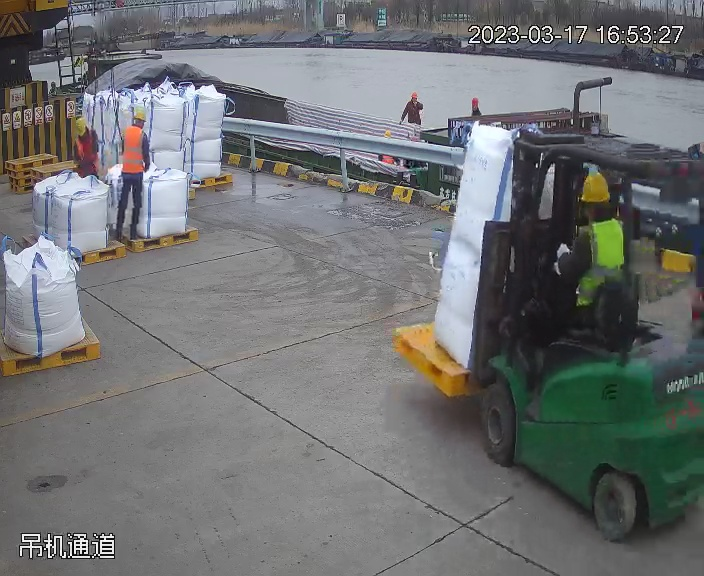head: (568, 170, 628, 265), (122, 106, 149, 148), (72, 117, 97, 147), (406, 90, 423, 108)
helmet: (579, 169, 616, 204), (73, 116, 88, 138), (131, 107, 149, 121), (469, 97, 480, 107), (411, 92, 419, 100)
people: (108, 104, 152, 243), (73, 116, 102, 180), (399, 90, 425, 126)
